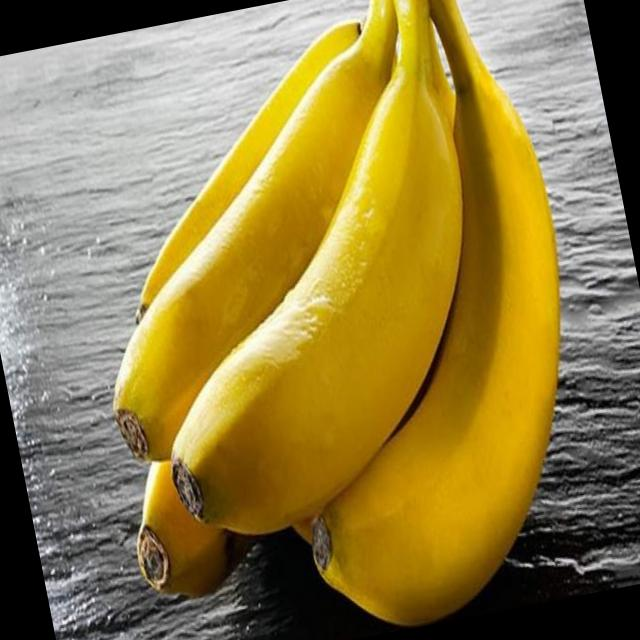banana: (101, 60, 540, 592), (224, 67, 626, 640), (50, 48, 472, 466)
